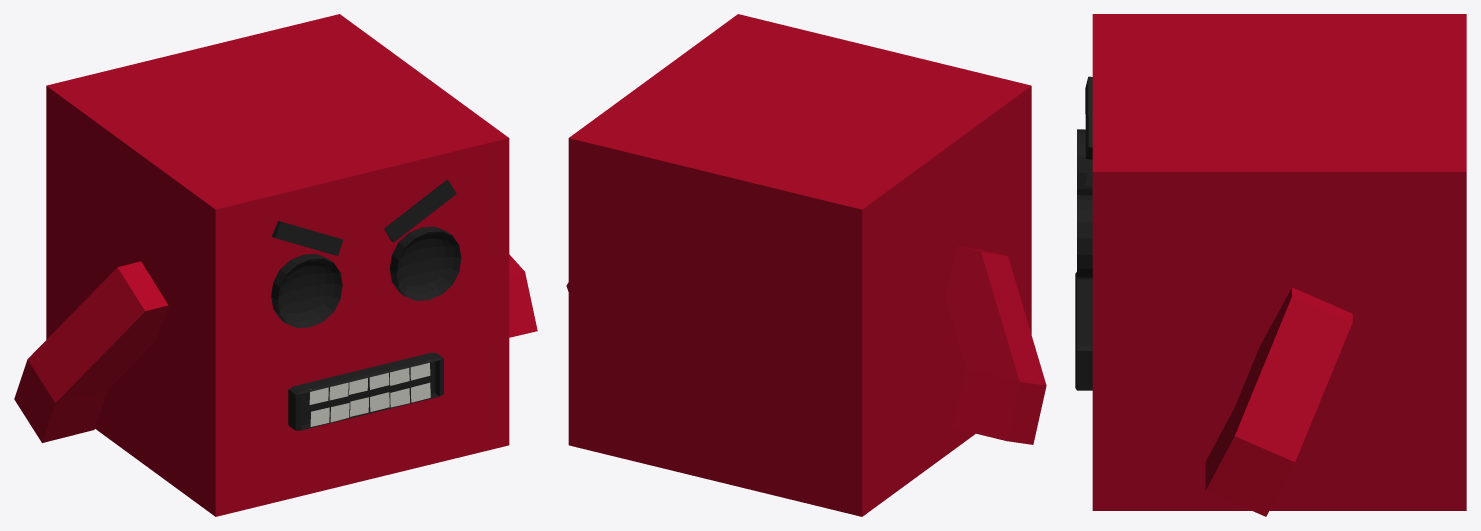
Rendered from boss.glb.
3 views of the same model, side by side, from view 1: azimuth 30°, elevation 25°; view 2: azimuth 150°, elevation 25°; view 3: azimuth 270°, elevation 25° (orthographic). The views are drawn at different scales.
Visible parts, largest first — view 1: Cube, Cube.006, Cube.005, Cube.004, Cube.003, Cube.007, Cube.002, Plane.005, Plane.004, Plane.003; view 2: Cube, Cube.006; view 3: Cube, Cube.002, Cube.005, Cube.004, Cube.007, Cube.003.
Boxes of the visible parts, x1,y1,x2,y2 form: Cube: [46, 14, 509, 516]; Cube.006: [14, 261, 168, 442]; Cube.005: [288, 352, 443, 430]; Cube.004: [389, 226, 461, 300]; Cube.003: [271, 254, 342, 328]; Cube.007: [271, 180, 456, 255]; Cube.002: [509, 254, 537, 337]; Plane.005: [310, 382, 430, 426]; Plane.004: [330, 388, 409, 422]; Plane.003: [350, 392, 389, 416]; Cube: [568, 14, 1031, 516]; Cube.006: [945, 246, 1046, 444]; Cube: [1092, 14, 1466, 510]; Cube.002: [1205, 287, 1352, 516]; Cube.005: [1075, 272, 1092, 390]; Cube.004: [1077, 195, 1092, 279]; Cube.007: [1085, 76, 1092, 189]; Cube.003: [1077, 129, 1092, 195].
Size of the model in its own units: 3.15 by 2 by 2.09.
